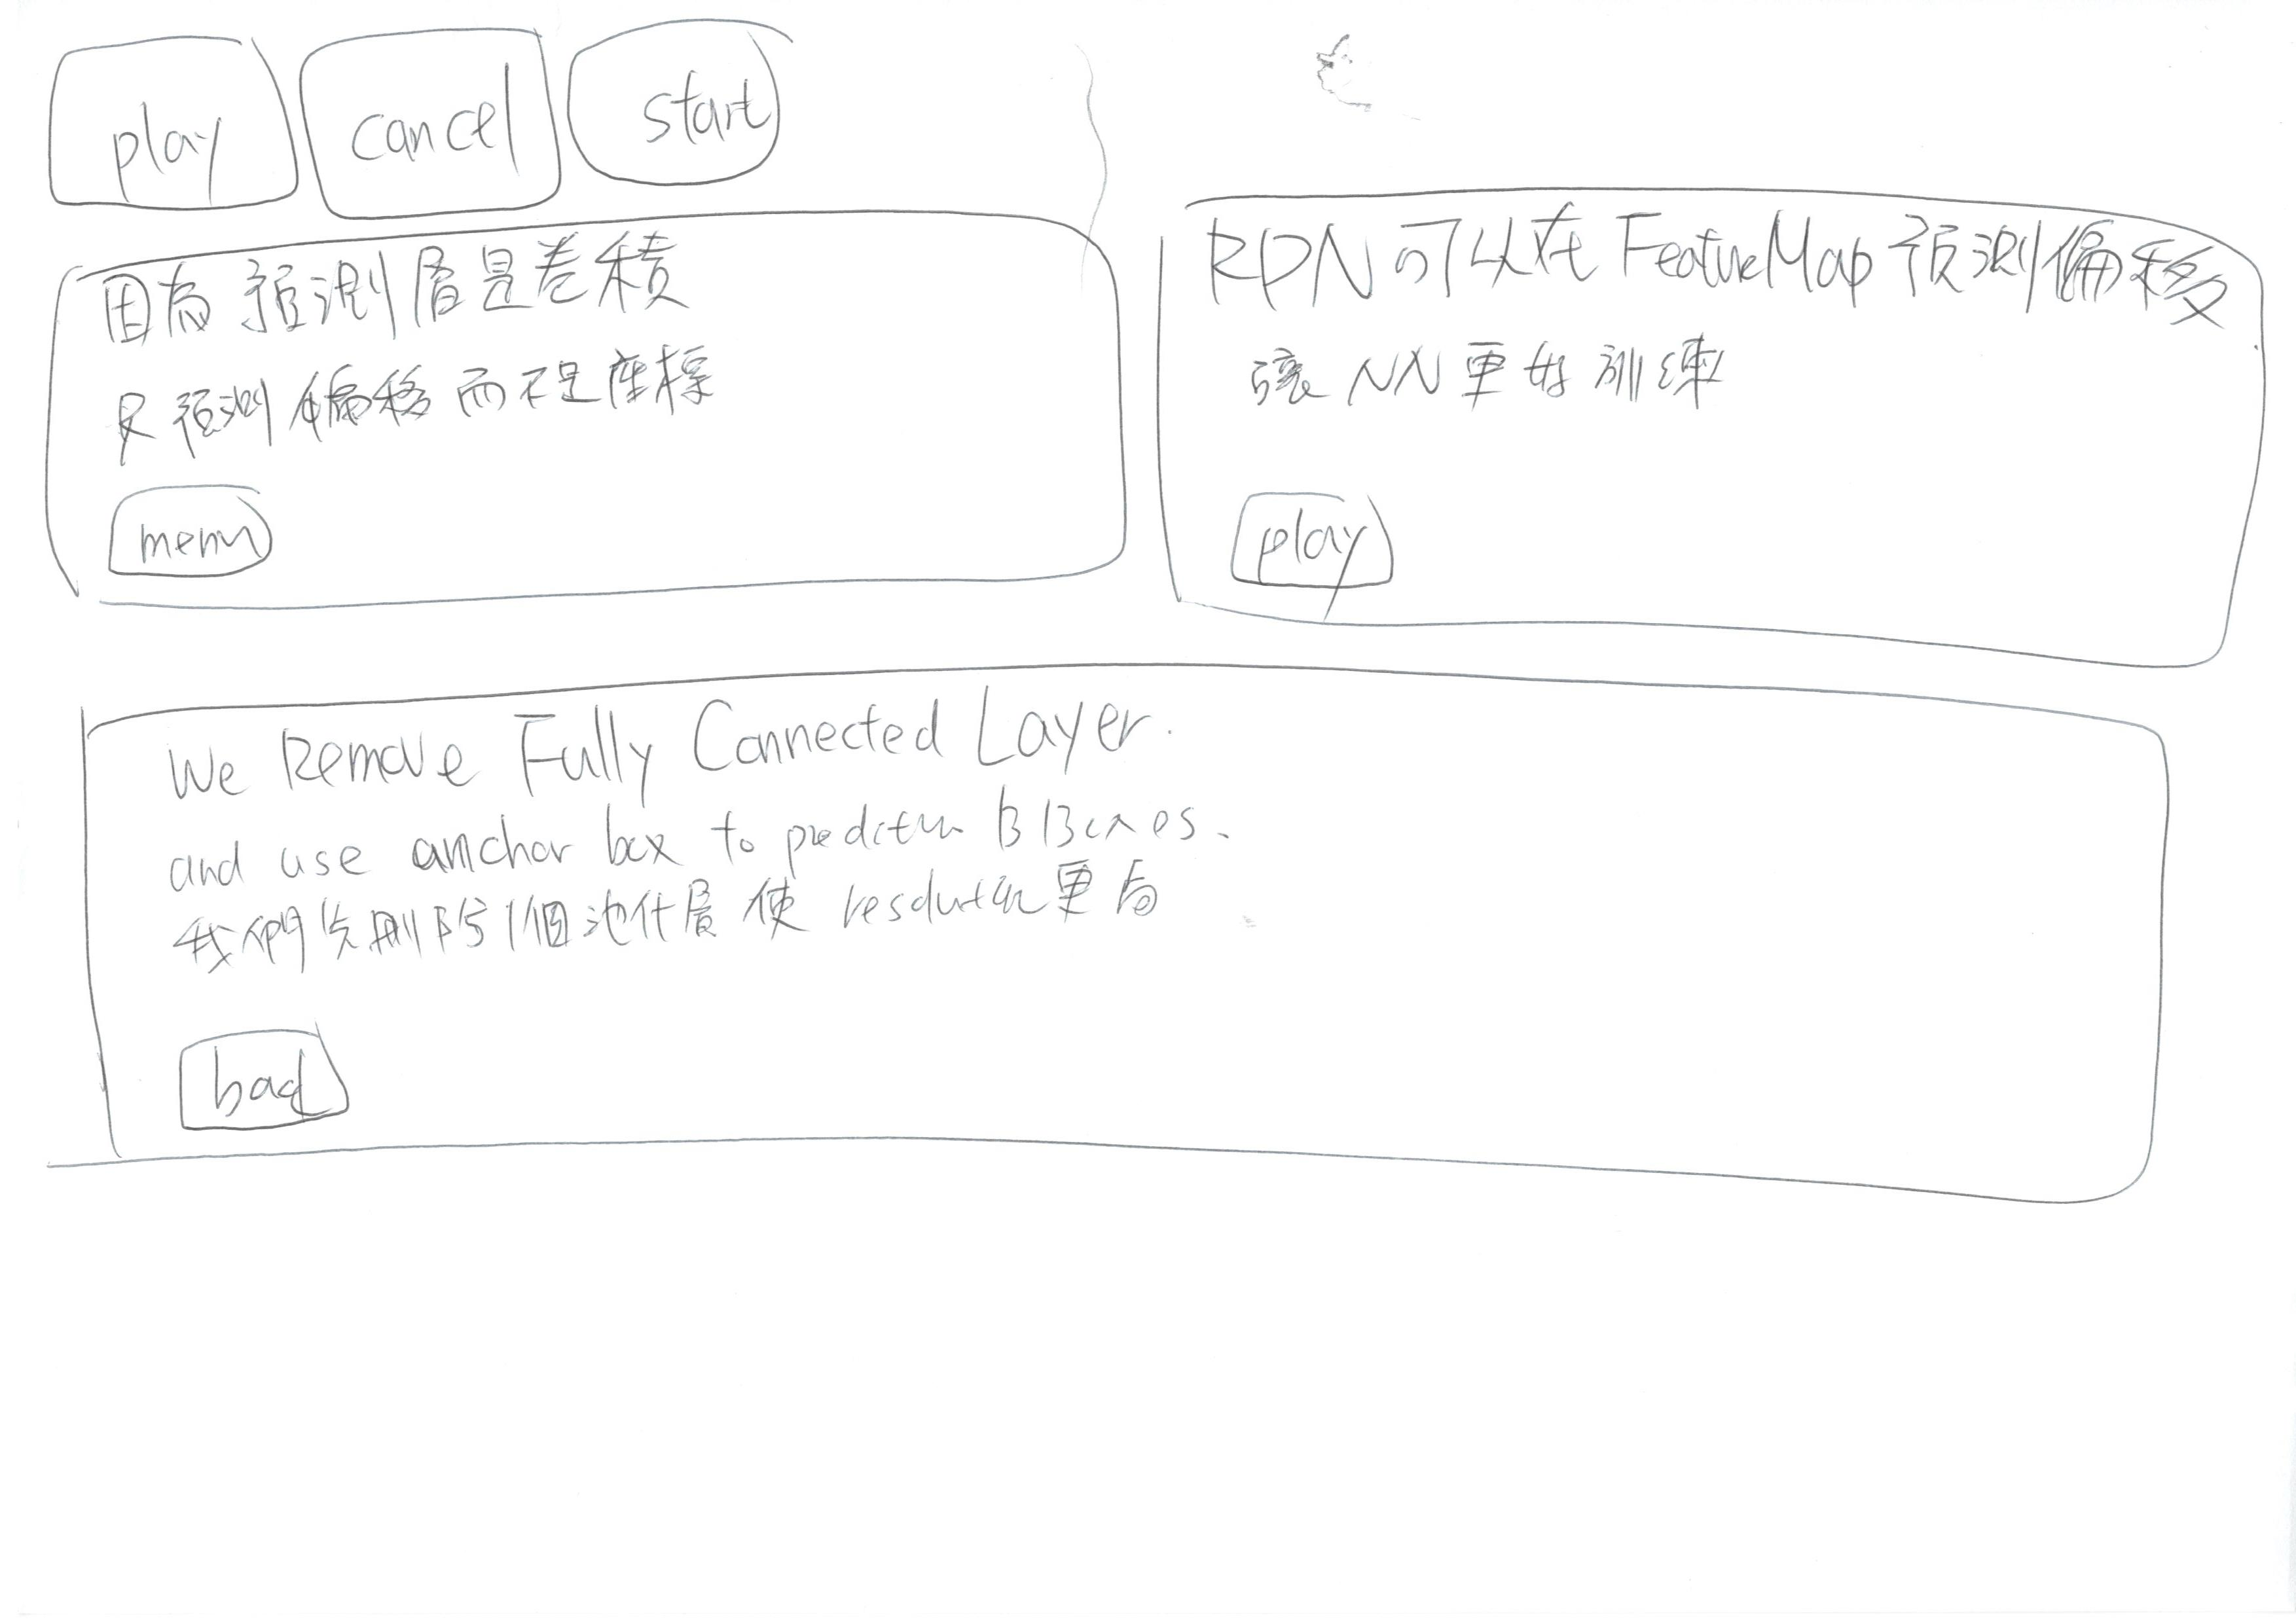back: (158, 1000, 380, 1156)
cancel: (276, 7, 589, 232)
double: (1141, 169, 2296, 678), (21, 185, 1153, 629)
menu: (72, 464, 320, 606)
play: (18, 21, 316, 237), (1208, 468, 1428, 619)
row: (5, 620, 2296, 1257), (5, 167, 2296, 707), (5, 4, 2296, 260)
single: (51, 642, 2296, 1260)
small-title: (1181, 227, 2199, 320), (160, 714, 1152, 775), (111, 267, 684, 313)
start: (554, 5, 828, 197)
text: (113, 805, 1234, 949), (88, 352, 737, 439), (1229, 339, 1730, 422)
